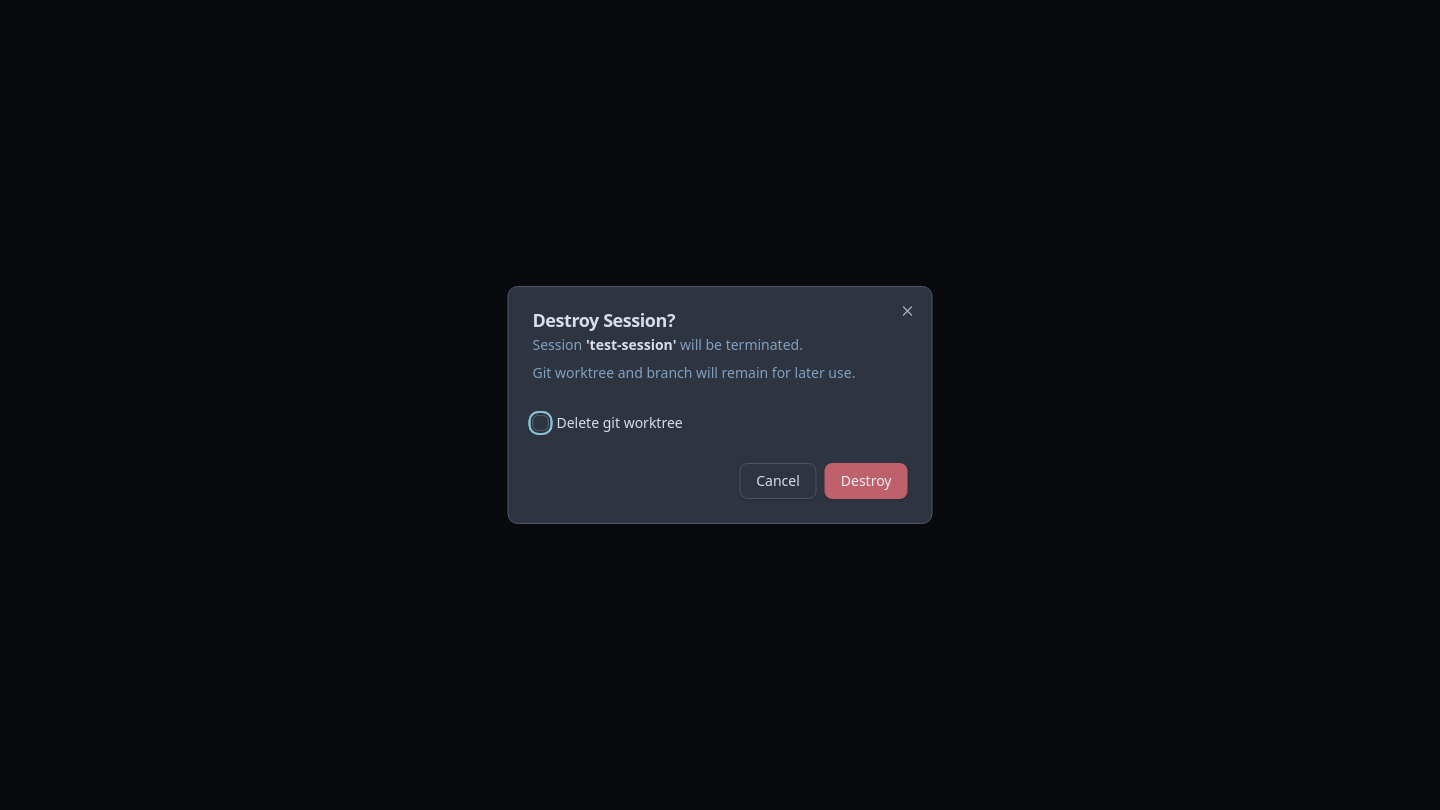
SessionDestroyDialog › Story 2.7: Worktree cleanup checkbox › should show warning message when checkbox is checked
The width and height of the screenshot is (1440, 810).
Click the checkbox.
click(540, 423)  # box [532,415,548,431]
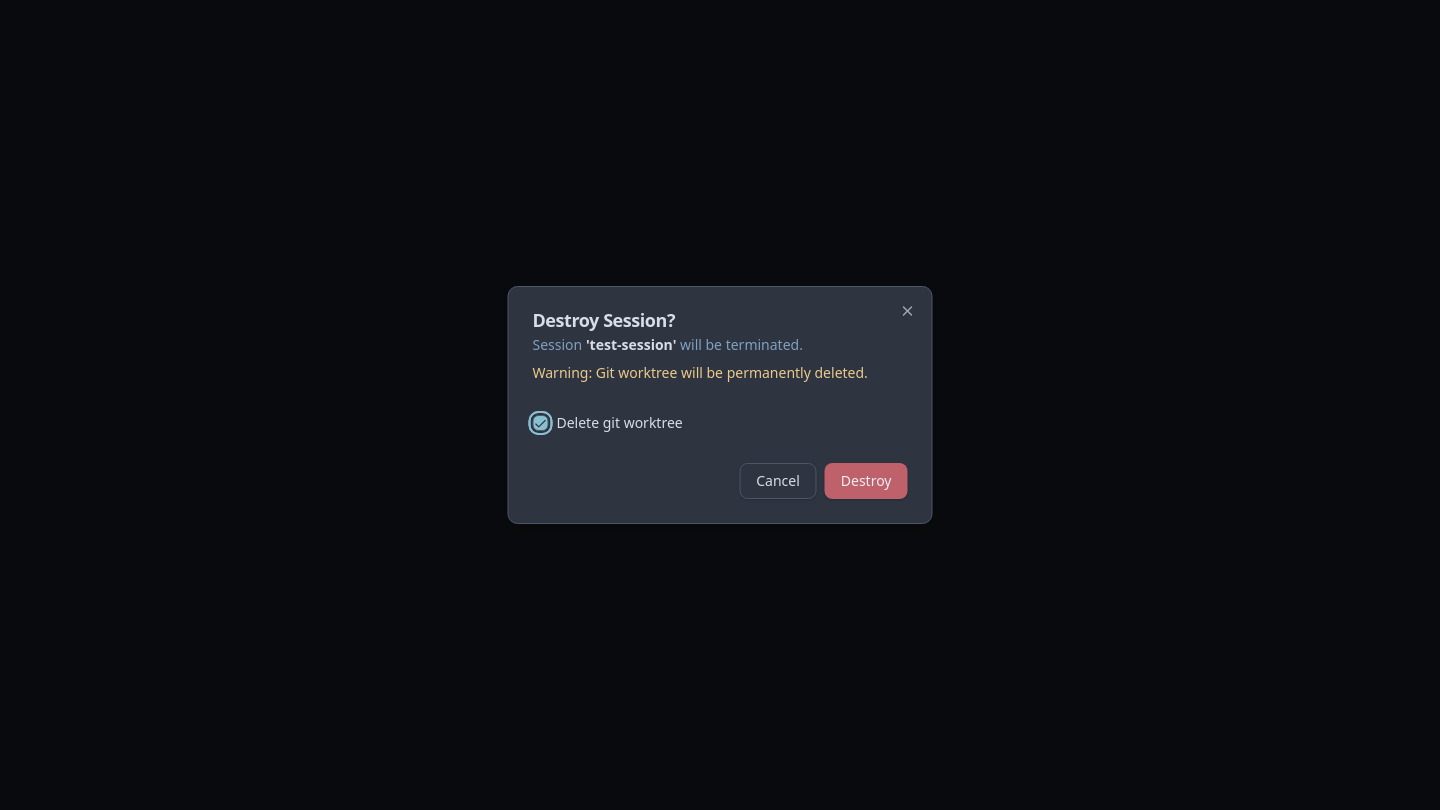
Result: the text "Warning: Git worktree will be permanently deleted." is shown at [532,363,908,383]
